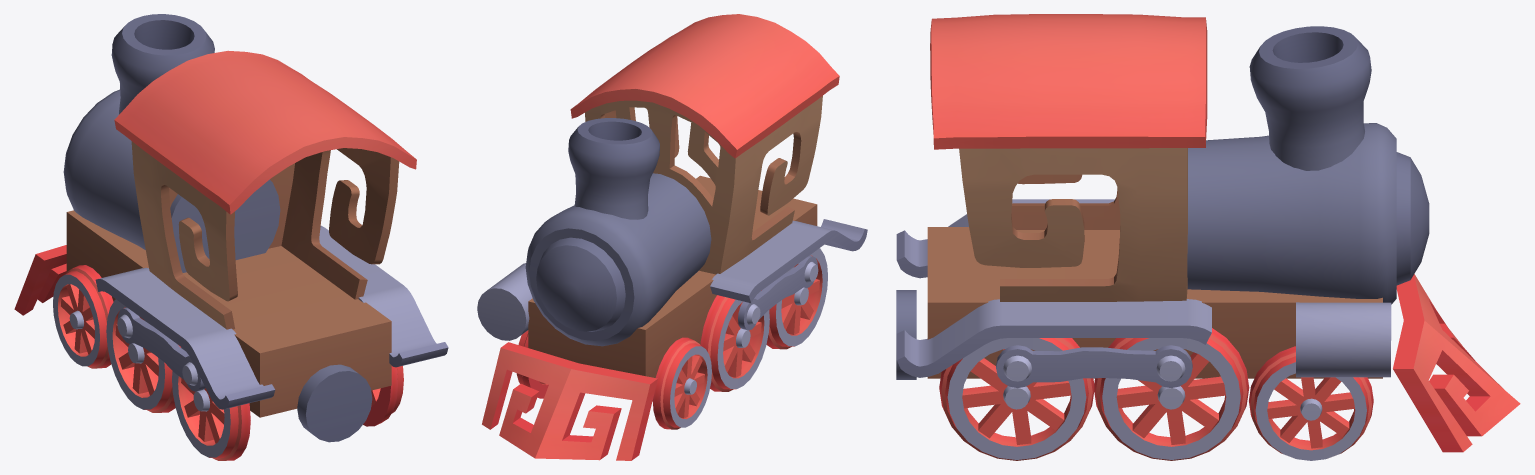
File: Locomotive.fbx
3 views of the same model, side by side, from view 1: azimuth 30°, elevation 25°; view 2: azimuth 150°, elevation 25°; view 3: azimuth 270°, elevation 25° (orthographic). The views are drawn at different scales.
Parts seen in each view (by area): view 1: Locomotive; view 2: Locomotive; view 3: Locomotive.
Boxes of the visible parts, left/top/right/bottom form: Locomotive: left=14, top=14, right=448, bottom=460; Locomotive: left=477, top=14, right=867, bottom=460; Locomotive: left=896, top=14, right=1520, bottom=460.
Size of the model in its own units: 3.75 by 5.14 by 7.49.
Materials: 1 (1 with a texture image).
